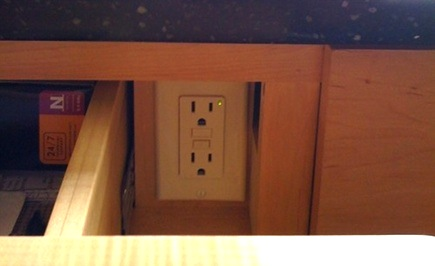outlet: (187, 97, 217, 129), (187, 149, 216, 179)
